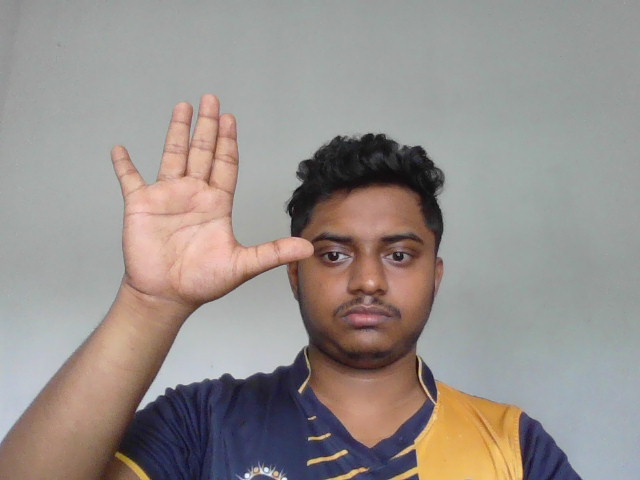Hello: (110, 93, 314, 311)
